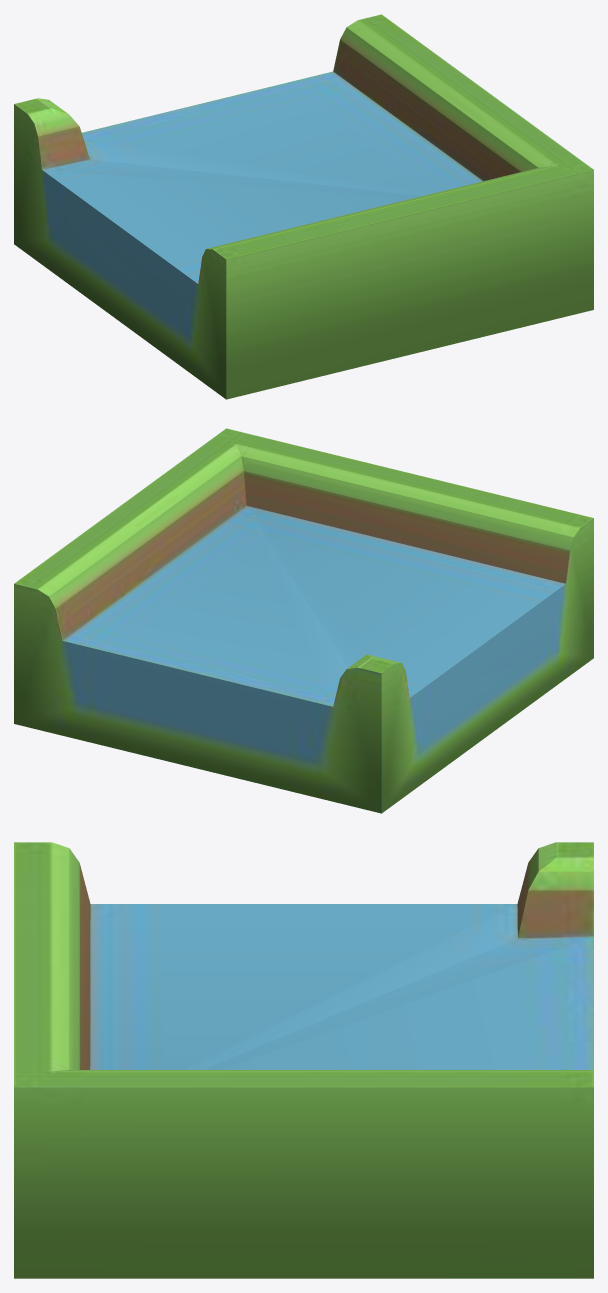
File: creek_corner.glb
3 views of the same model, one above another, from view 1: azimuth 30°, elevation 25°; view 2: azimuth 150°, elevation 25°; view 3: azimuth 270°, elevation 25° (orthographic). The views are drawn at different scales.
Visible parts, largest first — view 1: creek_corner; view 2: creek_corner; view 3: creek_corner.
Part boxes in pixels (x1,y1,x2,y2): creek_corner: (14, 14, 593, 399); creek_corner: (14, 428, 593, 813); creek_corner: (14, 842, 593, 1278).
Bounding box in the file's own units: 2 × 0.7285 × 2.
1 material, 1 textured.
